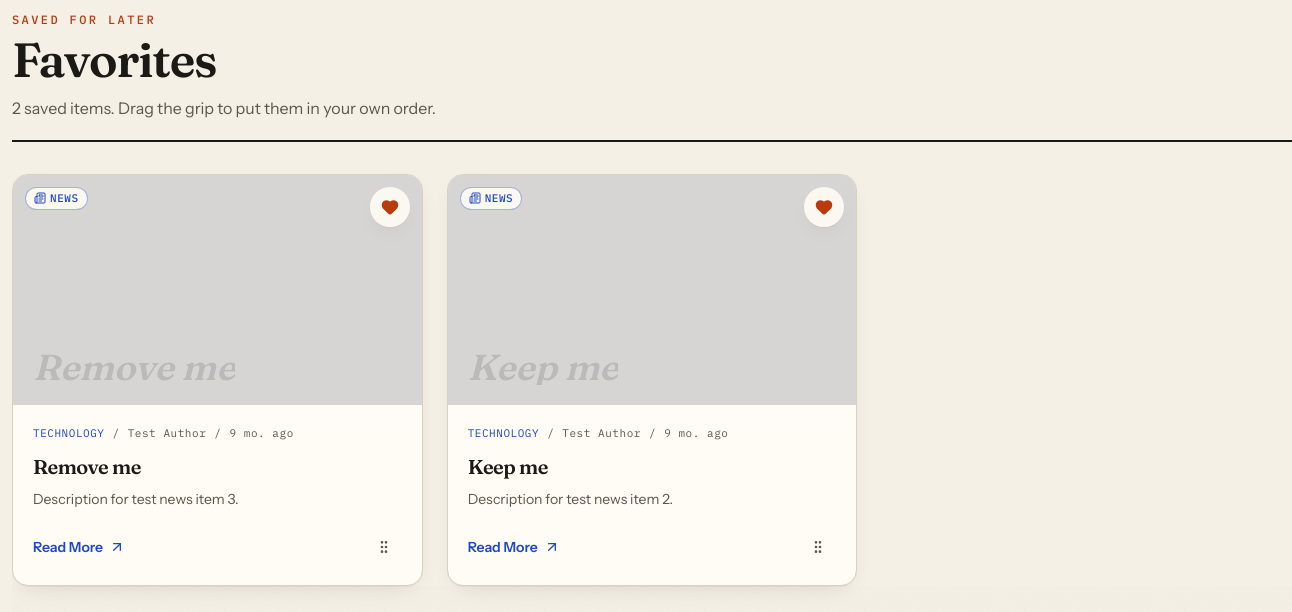
Test: Favorites (integration) › removes an item when its heart is pressed again
This screenshot has width=1292, height=612.
Click the button named "Favorite: Remove me" at [390, 207], box [370, 187, 410, 227]
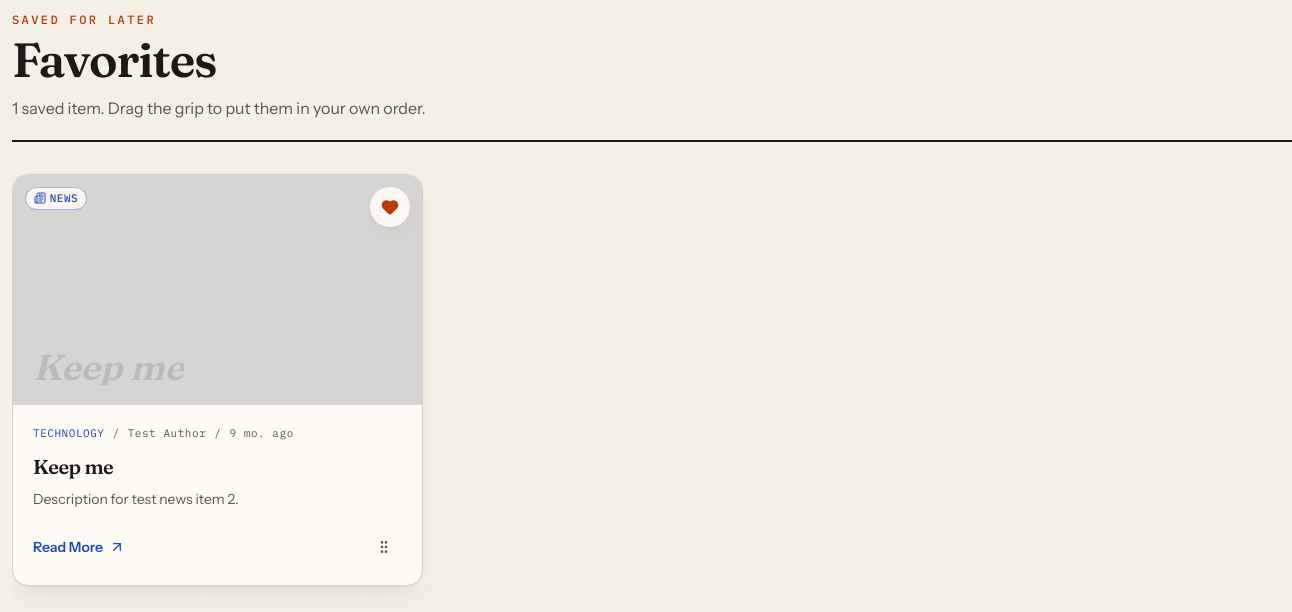
Expected: the heading "Keep me" is shown, [33, 454, 113, 479]
Now the text "Remove me" is gone
